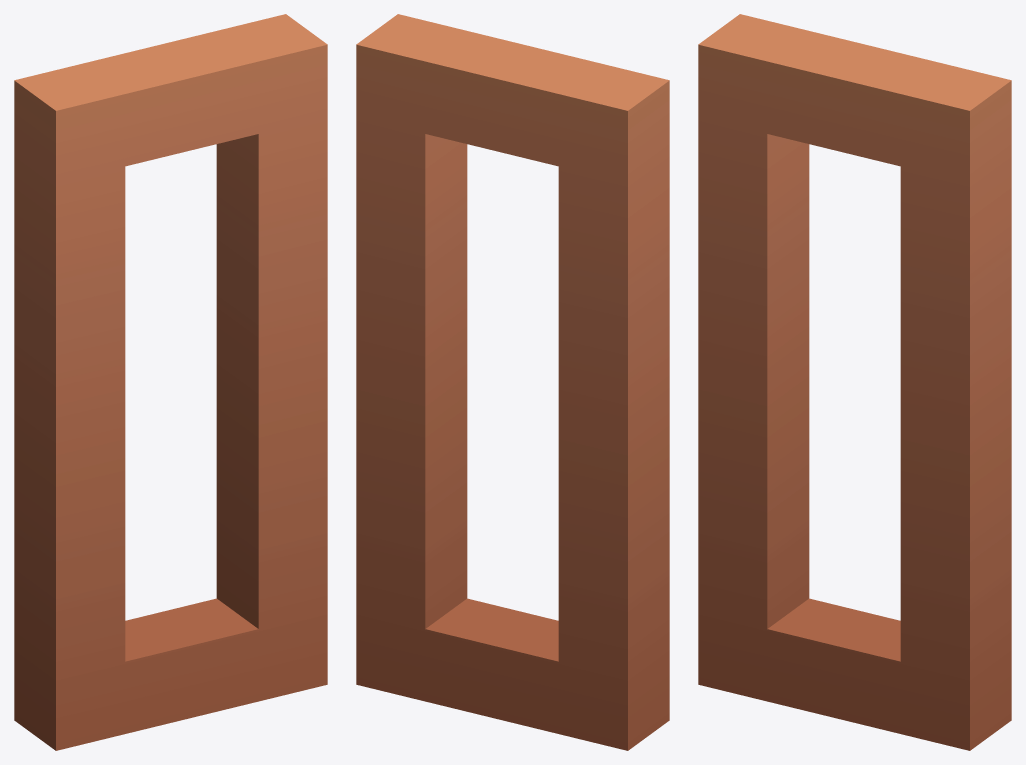
Rendered from kenney-modular-buildings-window-brown-narrow.glb.
The picture shows the model from 3 angles, left to right: view 1: azimuth 30°, elevation 25°; view 2: azimuth 150°, elevation 25°; view 3: azimuth 330°, elevation 25°; orthographic projection.
Visible parts, largest first — view 1: window-brown-narrow; view 2: window-brown-narrow; view 3: window-brown-narrow.
Part boxes in pixels (left/top/right/bottom): window-brown-narrow: left=14, top=14, right=327, bottom=750; window-brown-narrow: left=356, top=14, right=669, bottom=750; window-brown-narrow: left=698, top=14, right=1011, bottom=750.
Bounding box in the file's own units: 0.1875 × 0.4219 × 0.05.
1 material, 1 textured.
